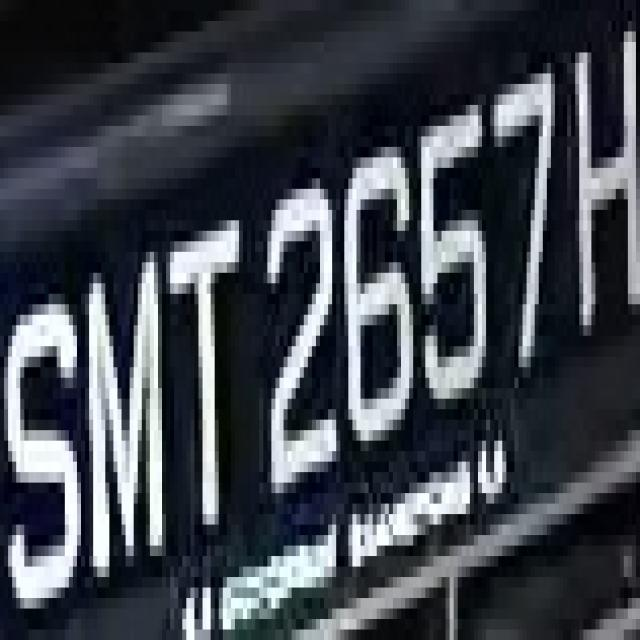2: (255, 157, 344, 535)
5: (417, 74, 490, 482)
6: (336, 157, 417, 493)
7: (474, 74, 555, 368)
H: (559, 21, 640, 346)
M: (81, 242, 178, 588)
S: (8, 273, 85, 608)
T: (162, 220, 255, 546)
